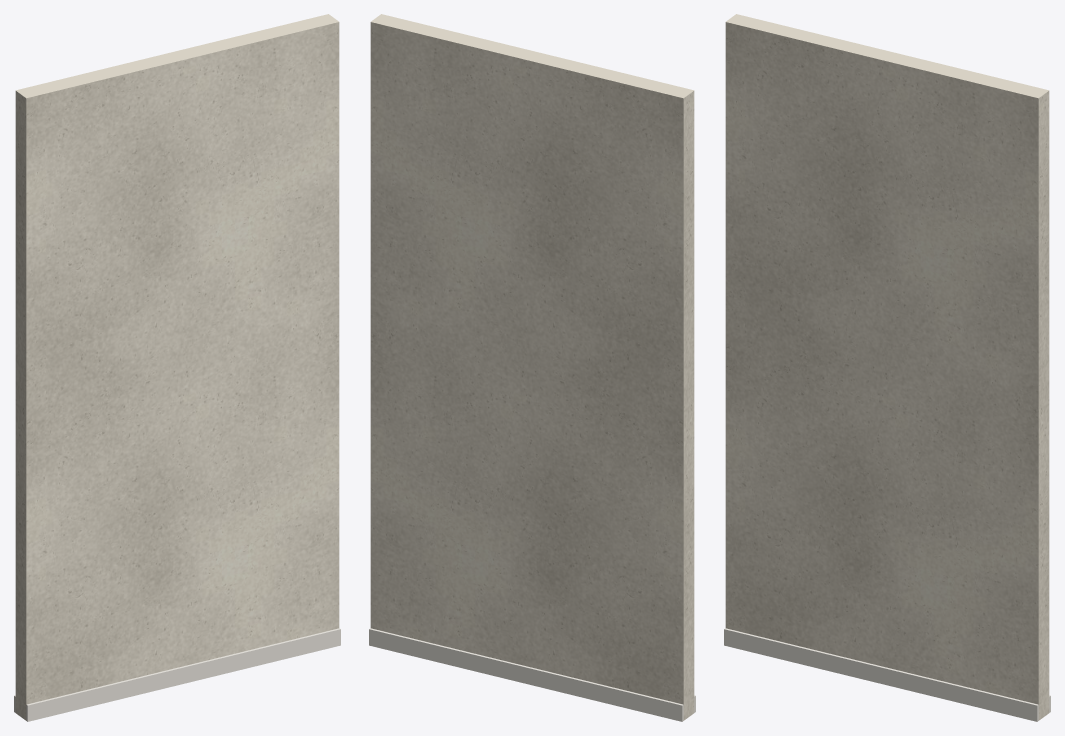
The model's file is interior_wall_plain_shop.glb.
3 views of the same model, side by side, from view 1: azimuth 30°, elevation 25°; view 2: azimuth 150°, elevation 25°; view 3: azimuth 330°, elevation 25° (orthographic).
Visible parts, largest first — view 1: interior_wall_plain_shop_plaster, interior_wall_plain_shop_trim; view 2: interior_wall_plain_shop_plaster, interior_wall_plain_shop_trim; view 3: interior_wall_plain_shop_plaster, interior_wall_plain_shop_trim.
Part boxes in pixels (left/top/right/bottom): interior_wall_plain_shop_plaster: left=15, top=14, right=339, bottom=720; interior_wall_plain_shop_trim: left=14, top=628, right=340, bottom=721; interior_wall_plain_shop_plaster: left=370, top=14, right=694, bottom=720; interior_wall_plain_shop_trim: left=369, top=628, right=695, bottom=721; interior_wall_plain_shop_plaster: left=725, top=14, right=1049, bottom=720; interior_wall_plain_shop_trim: left=724, top=628, right=1050, bottom=721.
Size of the model in its own units: 2 by 3.8 by 0.15.
2 materials, 1 textured.
